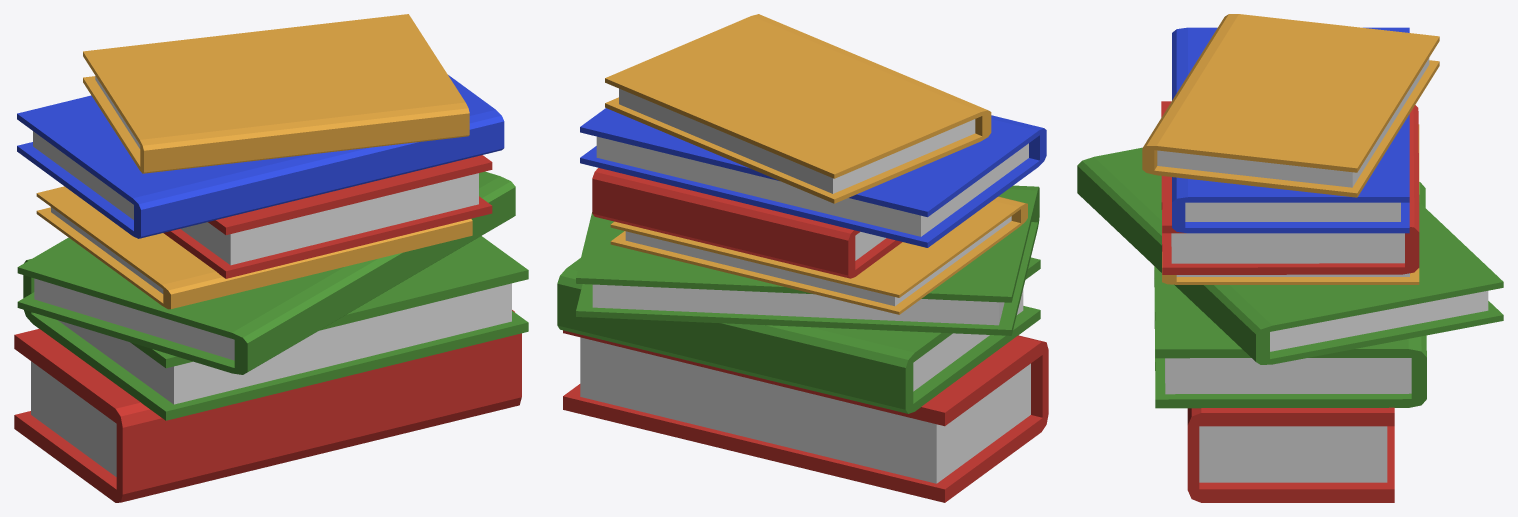
Rendered from Books_1.fbx.
3 views of the same model, side by side, from view 1: azimuth 30°, elevation 25°; view 2: azimuth 150°, elevation 25°; view 3: azimuth 270°, elevation 25° (orthographic). The views are drawn at different scales.
Visible parts, largest first — view 1: livre_1; view 2: livre_1; view 3: livre_1.
Boxes of the visible parts, x1,y1,x2,y2 form: livre_1: (14,14,528,502); livre_1: (557,14,1048,502); livre_1: (1077,14,1503,502).
Size of the model in its own units: 40.99 by 28.65 by 34.25.
